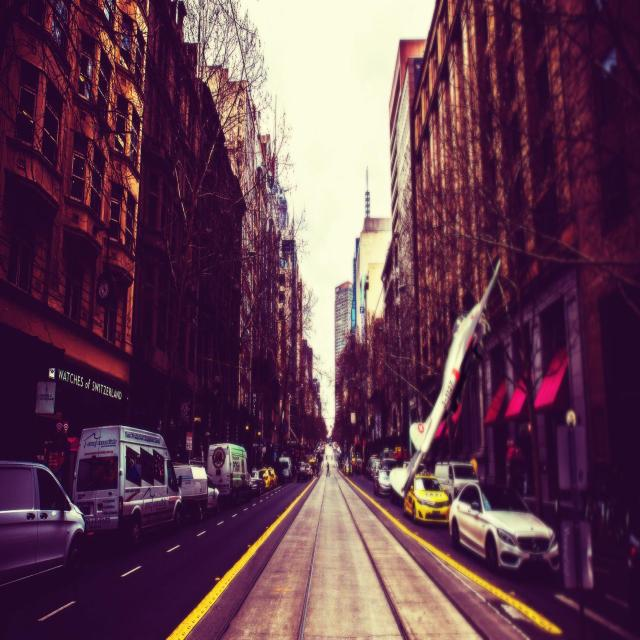airplane: (389, 254, 501, 504)
